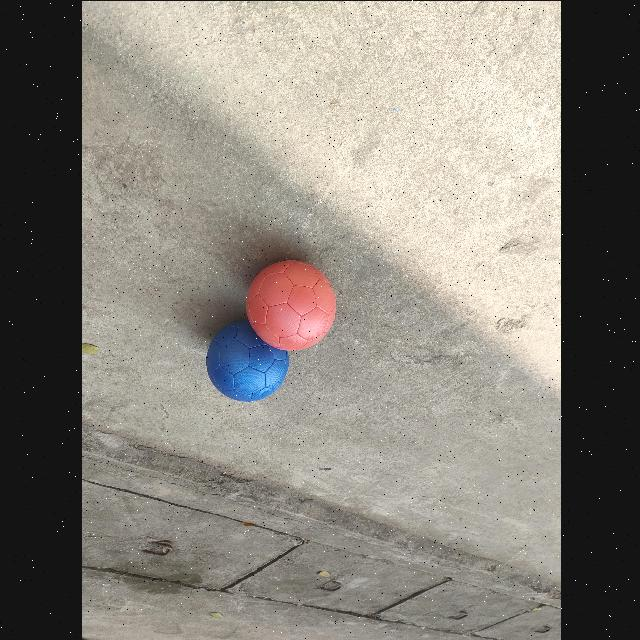B: (205, 319, 287, 400)
R: (244, 259, 334, 349)
